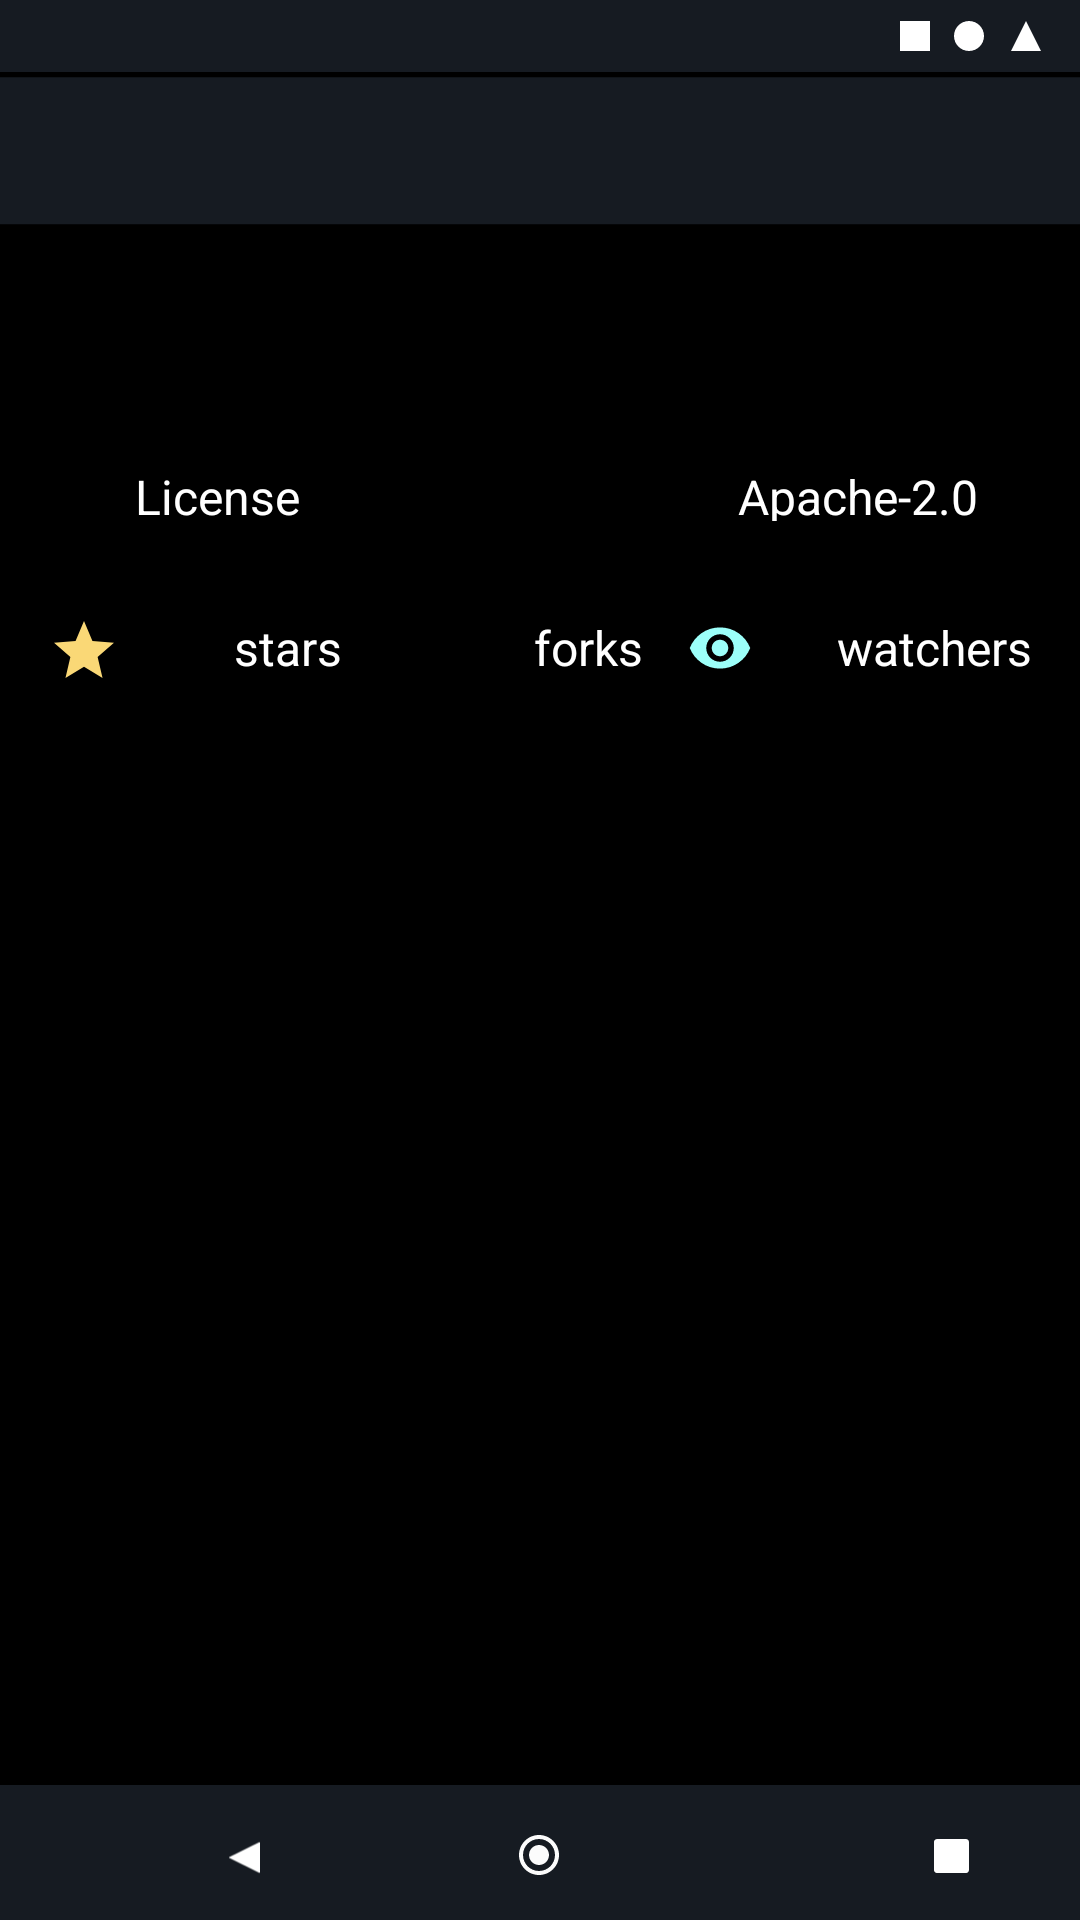

Icons on this 1080×1920 Android screen, each with its box as [x1=x1, y1=y1, x2=x2, y2=y2]:
visibility: [x1=690, y1=627, x2=750, y2=669]
